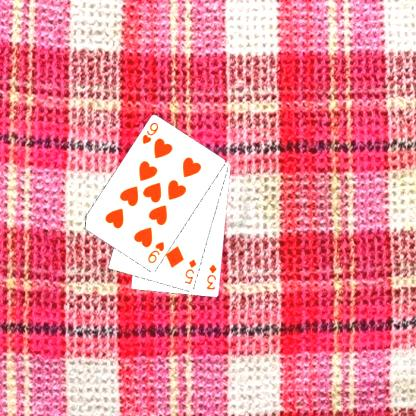3D: (204, 262, 218, 291)
5D: (182, 257, 198, 286)
9H: (145, 239, 166, 265), (140, 119, 160, 146)
